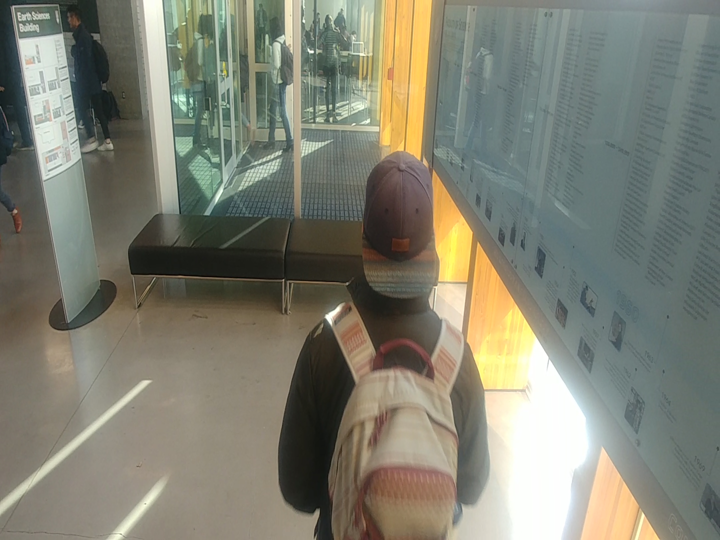face: (341, 141, 463, 317), (261, 11, 288, 42), (63, 3, 88, 32), (320, 10, 340, 34)
human: (272, 146, 501, 540), (59, 3, 120, 155), (263, 10, 298, 154), (314, 11, 349, 124)
